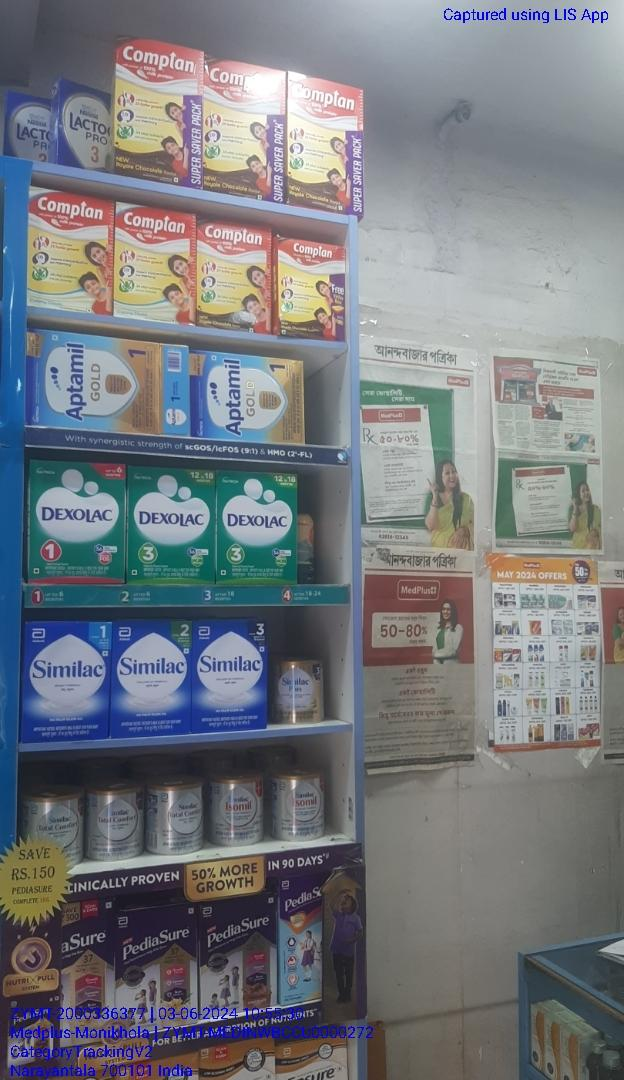PEDIASURE_CHOCOLATE_500_G_PACK: (116, 902, 196, 1029), (200, 893, 278, 1022)
